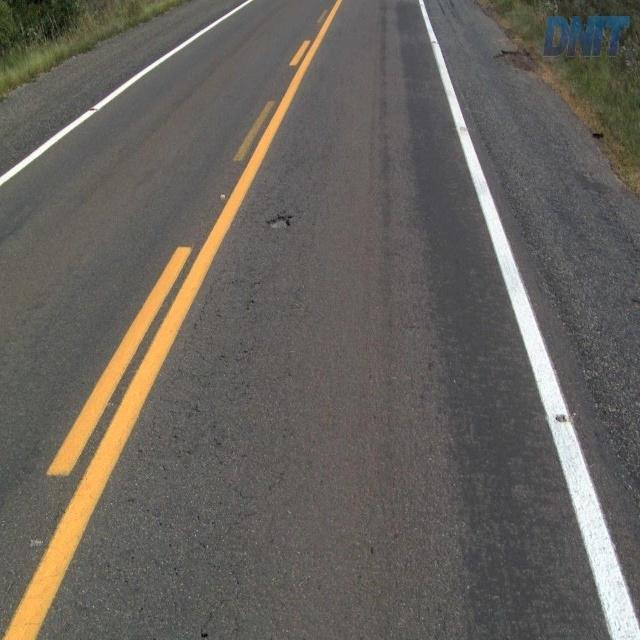pothole: (260, 211, 298, 234)
